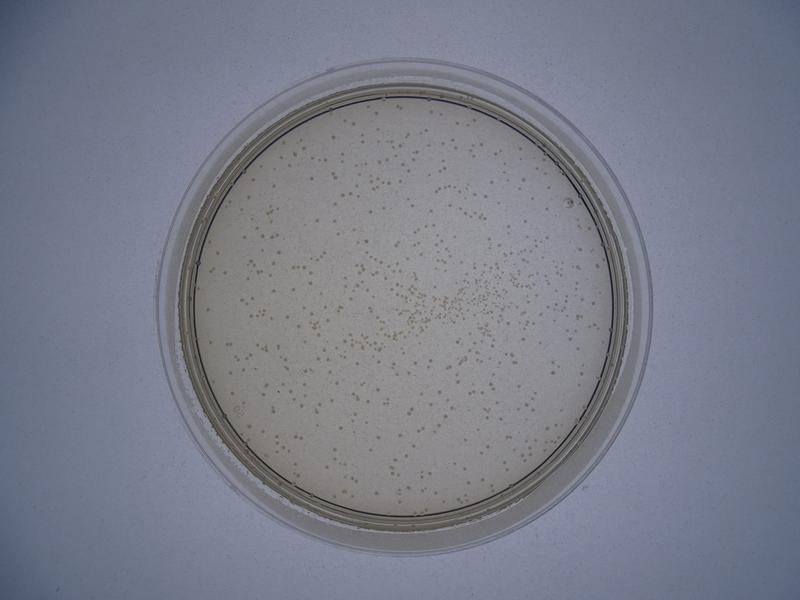colony: (266, 177, 282, 198), (309, 213, 327, 228), (304, 170, 318, 188), (238, 230, 252, 246), (542, 229, 556, 244), (239, 309, 254, 323), (272, 244, 286, 258), (525, 193, 539, 207), (371, 123, 385, 136), (329, 213, 342, 226), (400, 449, 413, 462), (279, 309, 292, 322), (270, 282, 282, 296), (219, 266, 231, 280), (519, 214, 531, 228), (392, 428, 406, 440), (305, 277, 316, 292), (436, 136, 448, 149), (361, 416, 373, 429), (362, 234, 373, 248), (495, 412, 506, 426), (379, 201, 389, 216), (351, 356, 361, 371), (333, 227, 345, 239), (425, 354, 437, 366), (344, 293, 356, 305), (364, 204, 375, 217), (449, 457, 460, 470), (458, 434, 471, 445), (433, 384, 444, 397), (452, 142, 462, 156), (293, 319, 303, 333), (311, 355, 325, 365), (327, 131, 338, 143), (491, 197, 503, 208), (335, 423, 346, 435), (330, 442, 341, 454), (320, 460, 331, 472), (372, 383, 383, 395), (415, 388, 427, 399), (299, 335, 310, 347), (331, 377, 343, 388), (245, 214, 258, 224), (519, 173, 529, 186), (486, 177, 497, 188), (542, 204, 552, 216), (503, 218, 513, 230), (546, 367, 556, 379), (573, 343, 583, 355), (519, 334, 529, 346), (443, 199, 453, 211), (320, 300, 330, 312), (286, 284, 299, 293), (511, 381, 524, 390), (410, 356, 419, 369), (481, 192, 491, 203), (313, 419, 323, 430), (484, 232, 494, 243), (375, 432, 384, 444), (426, 399, 435, 411), (456, 256, 465, 268), (429, 219, 439, 229), (395, 177, 406, 186), (351, 223, 359, 235), (364, 445, 376, 453), (337, 189, 346, 199), (374, 357, 383, 367), (426, 207, 436, 216), (394, 370, 403, 380), (408, 201, 417, 210), (364, 396, 373, 405), (528, 406, 536, 416)
